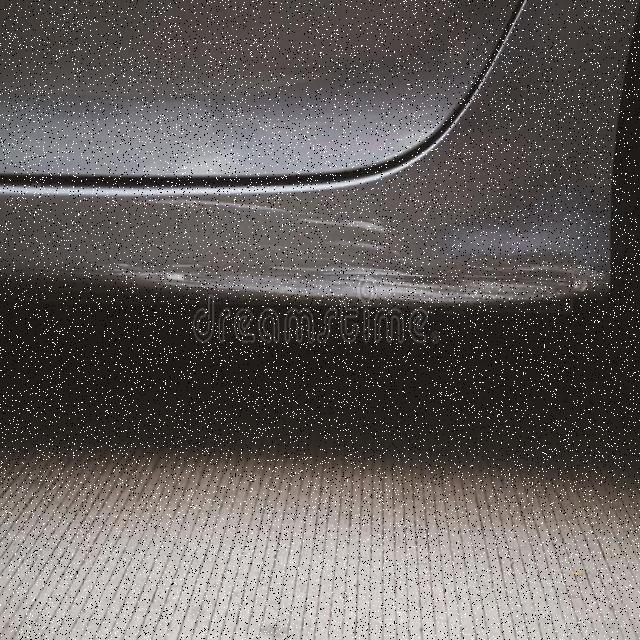RunningBoard-Dent: (0, 166, 625, 327)
